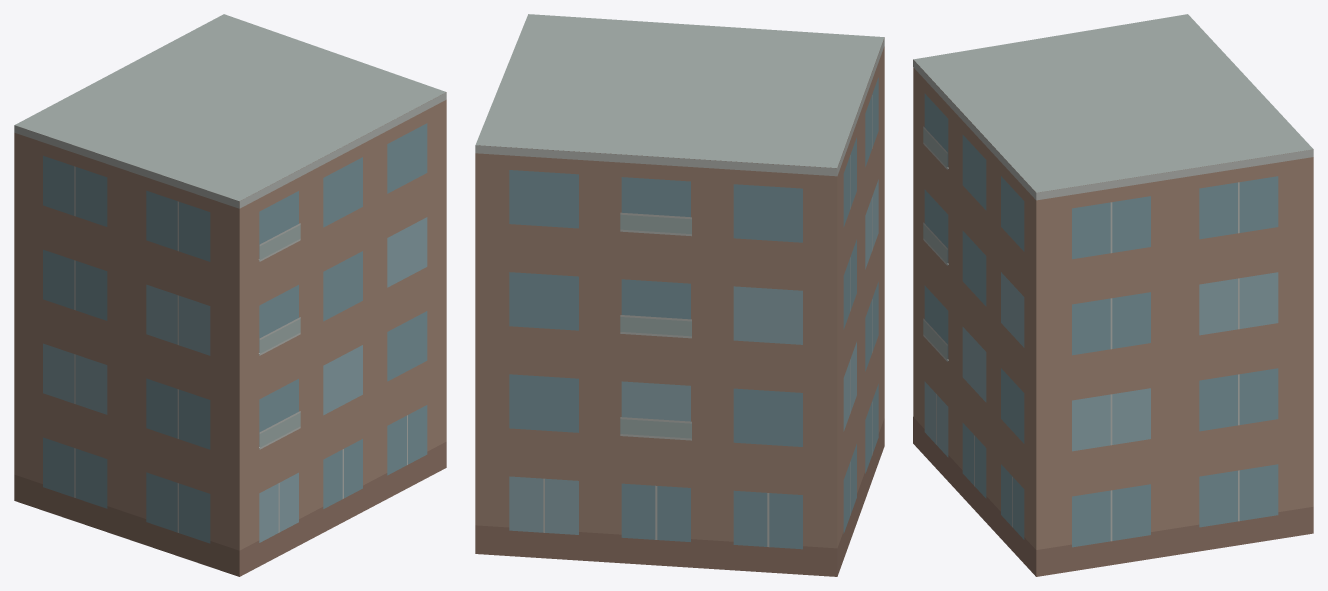
The model's file is survey-upis-33021814.glb.
The picture shows the model from 3 angles, left to right: view 1: azimuth 30°, elevation 25°; view 2: azimuth 150°, elevation 25°; view 3: azimuth 270°, elevation 25°; orthographic projection. The views are drawn at different scales.
Parts seen in each view (by area): view 1: survey-upis-33021814.tmp; view 2: survey-upis-33021814.tmp; view 3: survey-upis-33021814.tmp.
Boxes of the visible parts, bbox=[...] form: survey-upis-33021814.tmp: bbox=[14, 14, 446, 576]; survey-upis-33021814.tmp: bbox=[475, 14, 884, 576]; survey-upis-33021814.tmp: bbox=[913, 14, 1313, 576].
Bounding box in the file's own units: 12.18 × 12.2 × 11.54.
